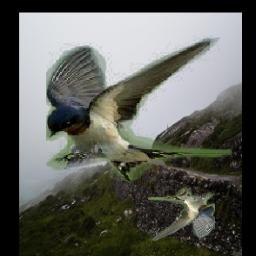Swallow: (45, 37, 231, 182), (147, 189, 214, 242)
